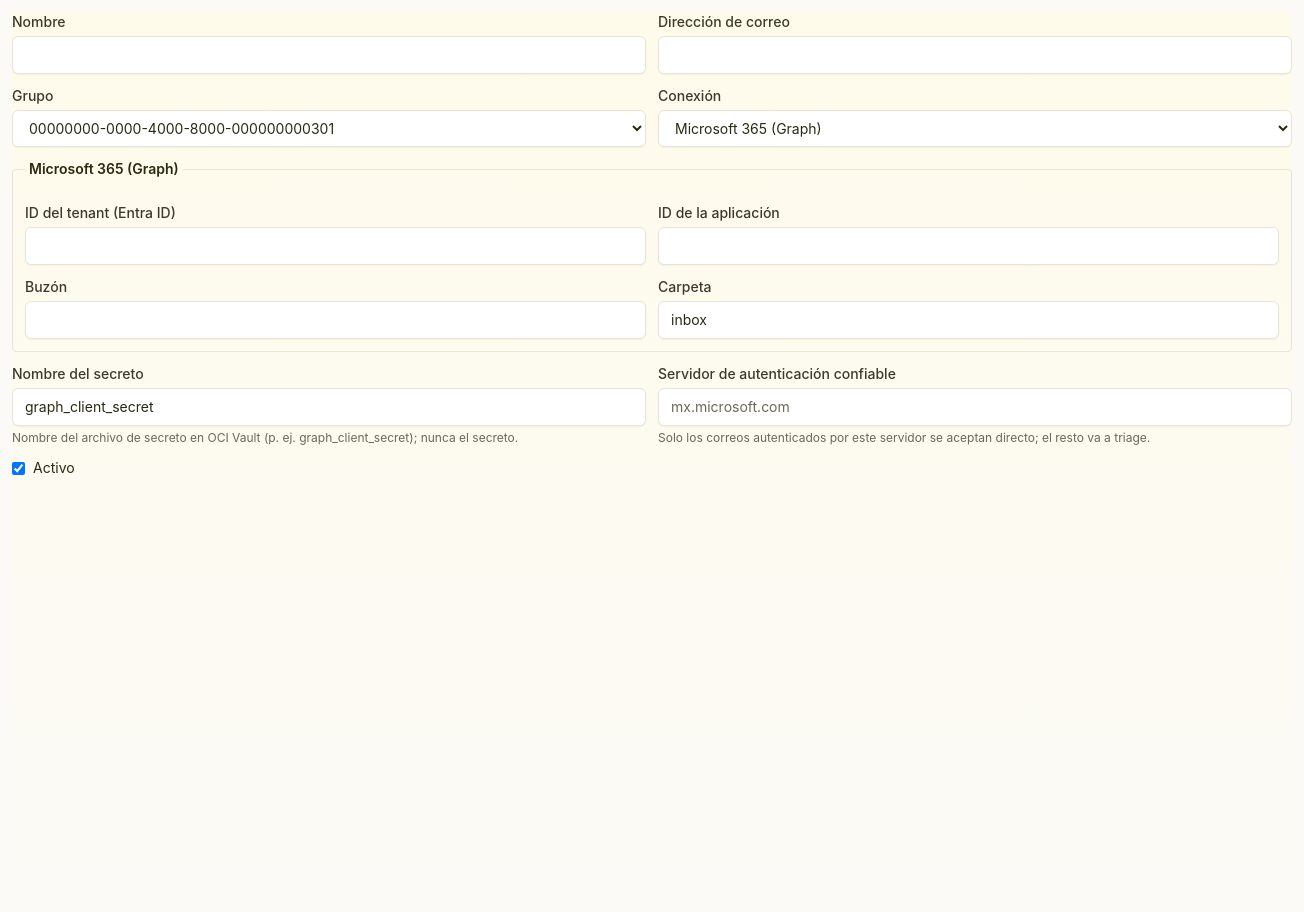
Test: configuration forms › switches the e-mail adapter configuration
The width and height of the screenshot is (1304, 912).
Select "IMAP / SMTP" in the dropdown labelled "Conexión": (975, 128) [658,110,1292,147]
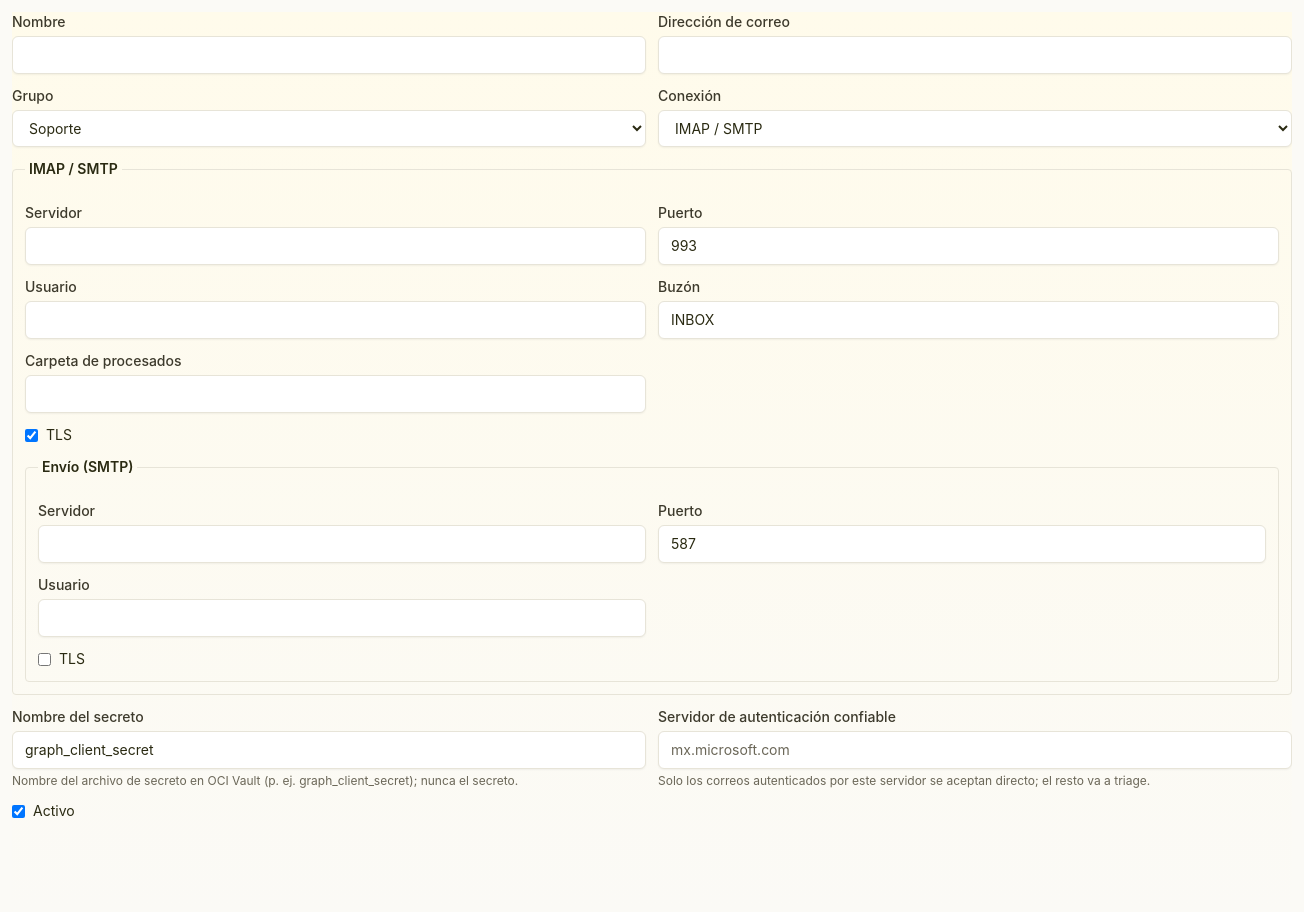
expect the text "Envío (SMTP)" is shown: met, box [42,458,134,475]
